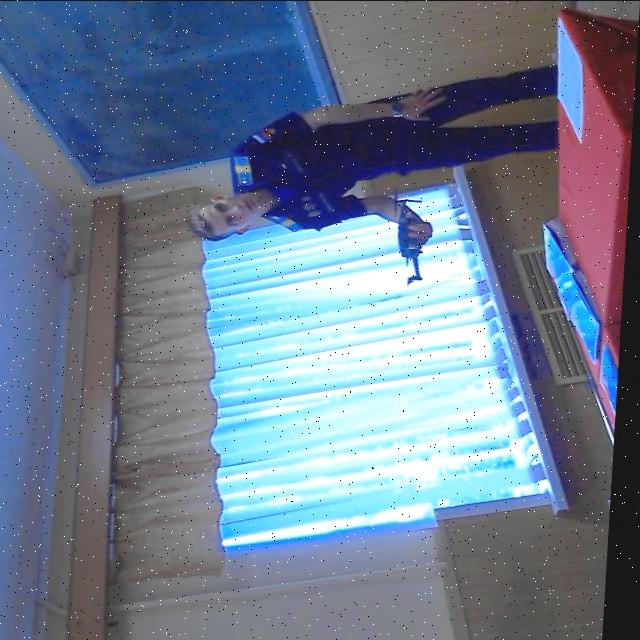drone: (374, 180, 448, 300)
